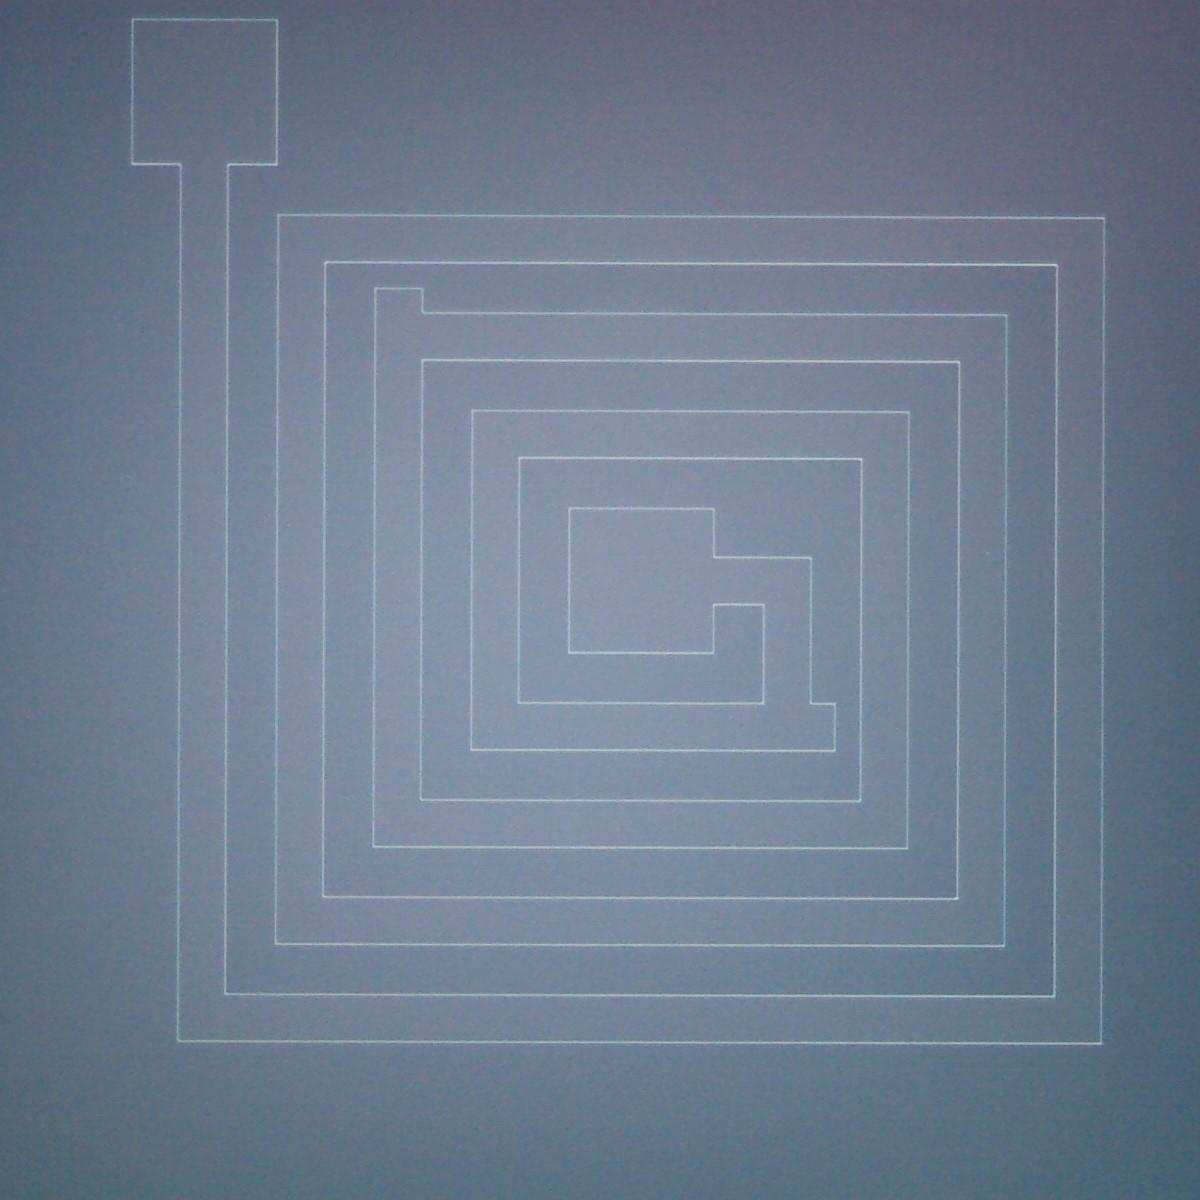project: (737, 685, 847, 768), (356, 278, 442, 375)
